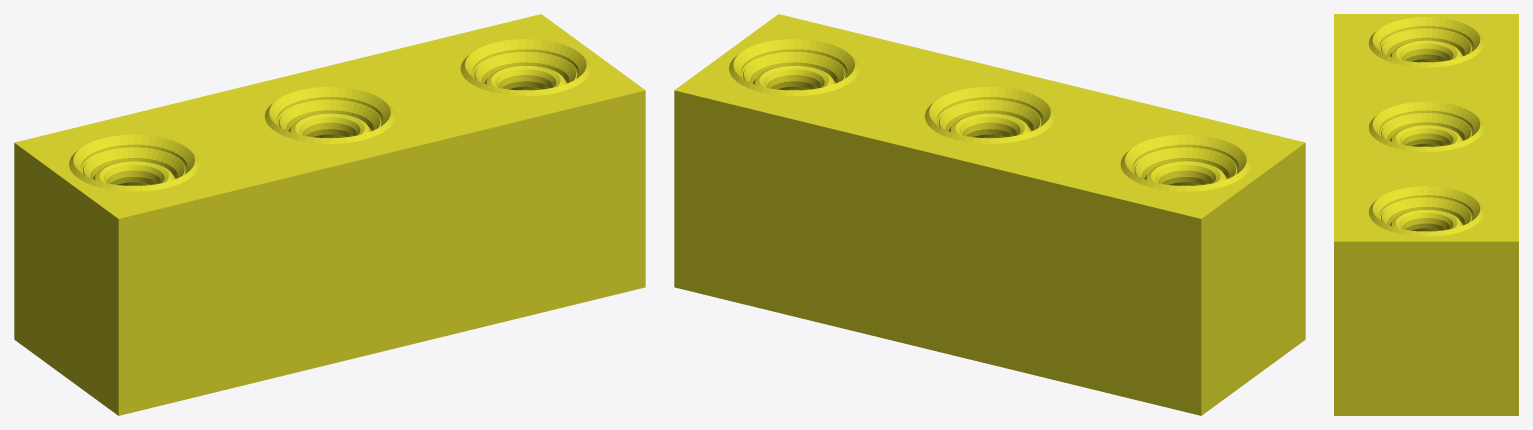
3 renders of one model, left to right at view 1: azimuth 30°, elevation 25°; view 2: azimuth 150°, elevation 25°; view 3: azimuth 270°, elevation 25°, orthographic. The views are drawn at different scales.
Parts seen in each view (by area): view 1: Cube.008, 环体.001, 环体.003, 环体.002; view 2: Cube.008, 环体.001, 环体.003, 环体.002; view 3: Cube.008, 环体.003, 环体.002, 环体.001.
Boxes of the visible parts, x1,y1,x2,y2 form: Cube.008: [14, 14, 645, 415]; 环体.001: [92, 161, 175, 185]; 环体.003: [288, 113, 371, 137]; 环体.002: [484, 65, 567, 90]; Cube.008: [674, 14, 1305, 415]; 环体.001: [1144, 161, 1227, 185]; 环体.003: [948, 113, 1031, 137]; 环体.002: [752, 65, 835, 90]; Cube.008: [1334, 14, 1518, 415]; 环体.003: [1389, 125, 1463, 146]; 环体.002: [1389, 209, 1463, 231]; 环体.001: [1390, 40, 1462, 62].
Size of the model in its own units: 0.35 by 0.1275 by 0.12.
